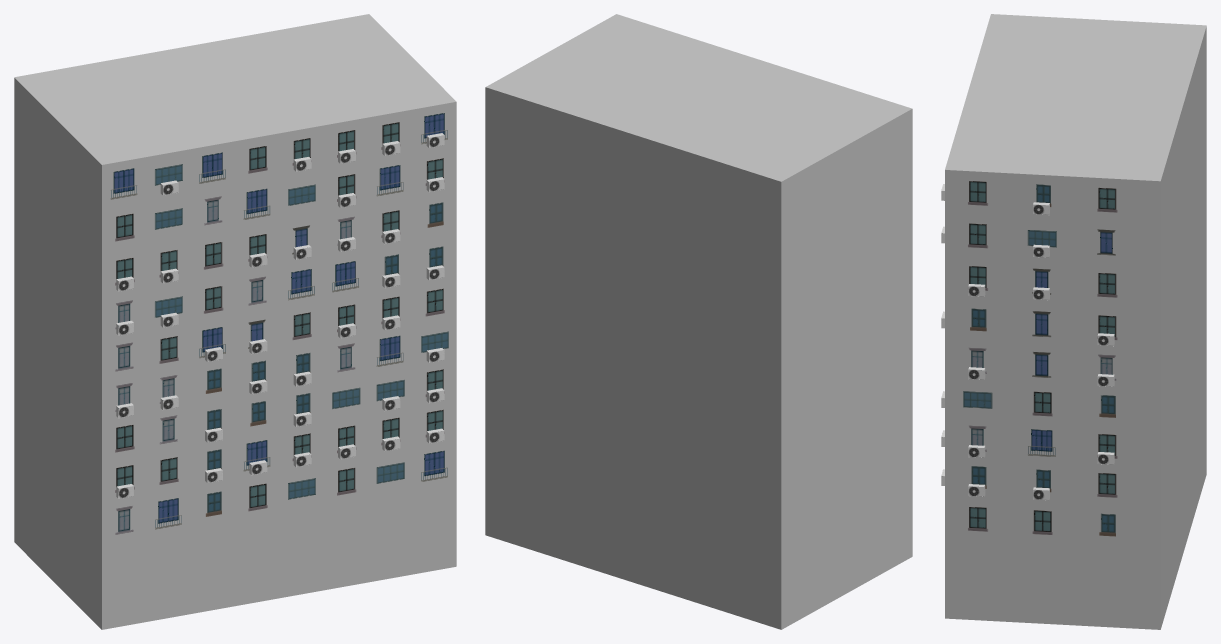
The model's file is 111StationFix16.fbx.
3 views of the same model, side by side, from view 1: azimuth 30°, elevation 25°; view 2: azimuth 150°, elevation 25°; view 3: azimuth 270°, elevation 25° (orthographic). The views are drawn at different scales.
Visible parts, largest first — view 1: Cube.259; view 2: Cube.259; view 3: Cube.259.
Part boxes in pixels (left/top/right/bottom): Cube.259: left=14, top=14, right=456, bottom=629; Cube.259: left=485, top=14, right=912, bottom=629; Cube.259: left=941, top=14, right=1206, bottom=629.
Bounding box in the file's own units: 21.69 × 27.14 × 14.56.
